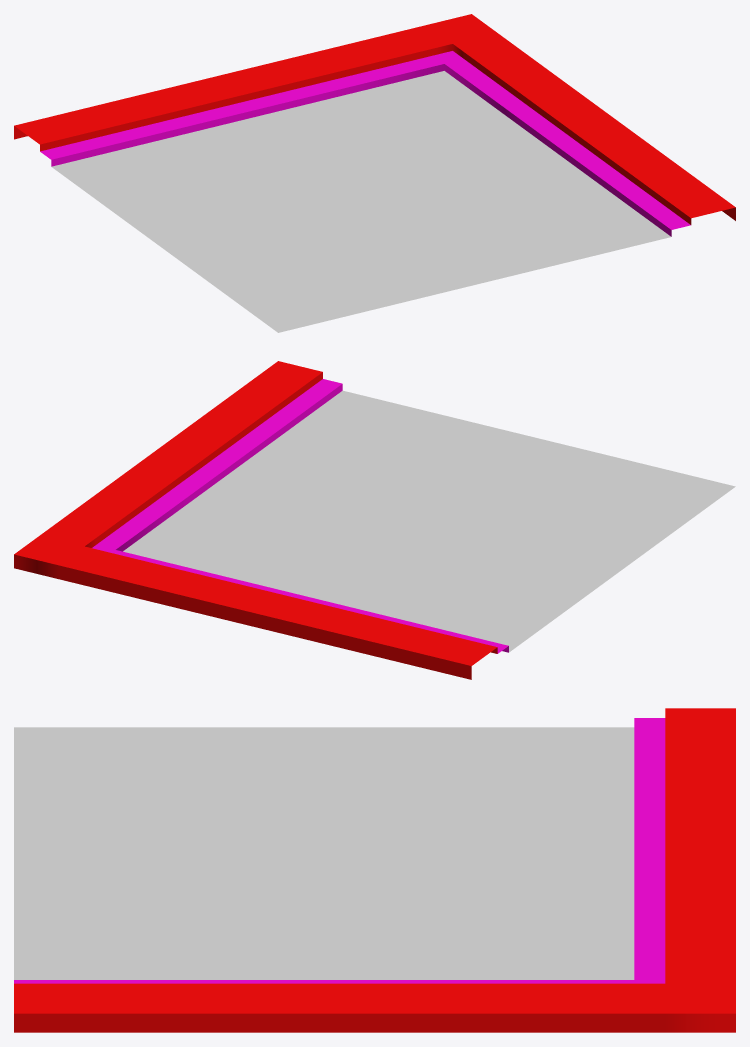
Rendered from Floor-Corner.fbx.
3 views of the same model, one above another, from view 1: azimuth 30°, elevation 25°; view 2: azimuth 150°, elevation 25°; view 3: azimuth 270°, elevation 25° (orthographic). The views are drawn at different scales.
Visible parts, largest first — view 1: Corner; view 2: Corner; view 3: Corner.
Boxes of the visible parts, x1,y1,x2,y2 form: Corner: [14, 14, 735, 332]; Corner: [14, 361, 735, 679]; Corner: [14, 708, 735, 1032].
Size of the model in its own units: 78.74 by 2.28 by 78.74.
